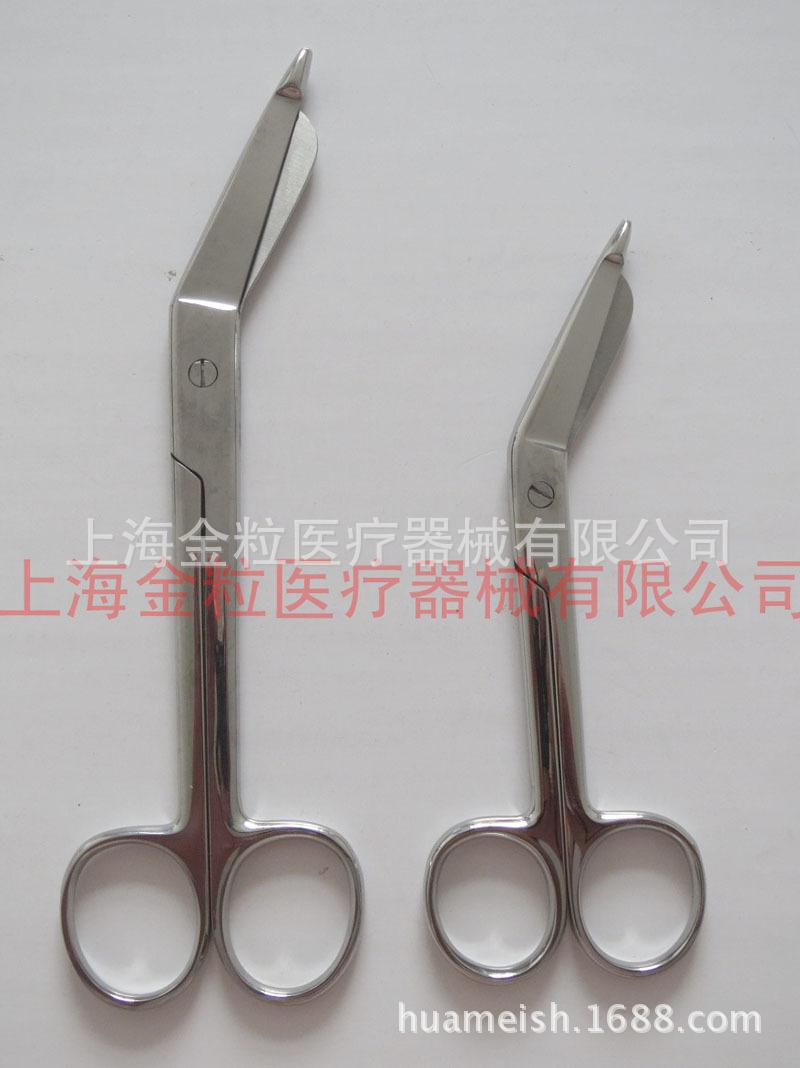scissor: (49, 83, 676, 1038)
